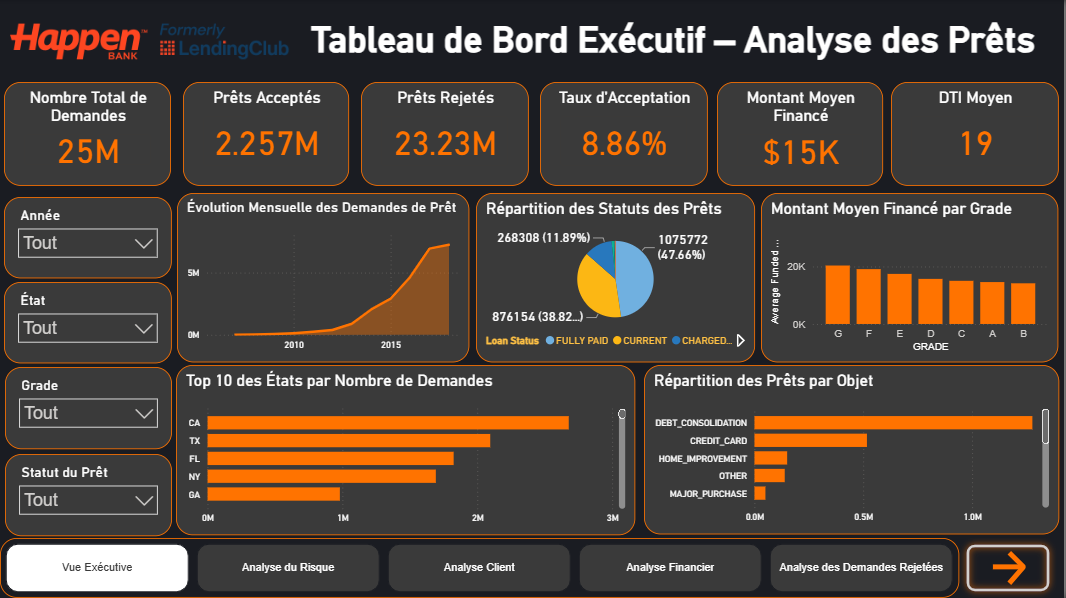

This screenshot's page, from the dashboard's own definition file:
{"tool":"powerbi","page":{"name":"Vue Exécutive","canvas":[1280,720],"ordinal":0},"visuals":[{"type":"image","box":[12,8.4,335.9,83.1],"z":0},{"type":"cardVisual","title":"Nombre Total de Demandes","fields":{"Data":["MESURES.Total Applications"]},"box":[5.1,98.3,201.1,124.5],"z":1000},{"type":"textbox","box":[360,18.1,900.6,71],"z":2000},{"type":"cardVisual","title":"Prêts Acceptés","fields":{"Data":["Count(FACT_ACCEPTED_LOANS.ACCEPTED_LOAN_KEY)"]},"box":[220,98.3,200,125],"z":3000},{"type":"cardVisual","title":"Prêts Rejetés","fields":{"Data":["Count(FACT_REJECTED_LOANS.REJECTED_LOAN_KEY)"]},"box":[435,98.3,201.7,125],"z":4000},{"type":"cardVisual","title":"Taux d''Acceptation","fields":{"Data":["MESURES.Approval Rate %"]},"box":[650,98.3,201.7,125],"z":5000},{"type":"cardVisual","title":"Montant Moyen Financé","fields":{"Data":["MESURES.Average Loan Amount"]},"box":[863.3,98.3,200,125],"z":6000},{"type":"slicer","fields":{"Values":["DIM_DATE.YEAR"]},"box":[5,236.7,201.7,98.3],"z":7000},{"type":"slicer","fields":{"Values":["DIM_STATE.STATE_CODE"]},"box":[5,340,201.7,98.3],"z":8000},{"type":"slicer","fields":{"Values":["DIM_GRADE.GRADE"]},"box":[6,441.9,201.1,98.7],"z":9000},{"type":"pageNavigator","box":[0,648.3,1155.5,72],"z":10000},{"type":"actionButton","box":[1155.5,648.3,115.5,72],"z":11000},{"type":"cardVisual","title":"DTI Moyen","fields":{"Data":["Avg(FACT_ACCEPTED_LOANS.DTI)"]},"box":[1073.3,98.3,201.7,125],"z":12000},{"type":"slicer","fields":{"Values":["DIM_LOAN_STATUS.LOAN_STATUS"]},"box":[6,546.6,201.1,98.7],"z":13000},{"type":"lineChart","title":"Évolution Mensuelle des Demandes de Prêt","fields":{"Category":["DIM_DATE.MONTH","DIM_DATE.YEAR"],"Y":["MESURES.Total Applications"]},"box":[213.3,232.6,352.3,203.7],"z":14000},{"type":"pieChart","title":"Répartition des Statuts des Prêts","fields":{"Category":["DIM_LOAN_STATUS.LOAN_STATUS"],"Y":["MESURES.Accepted Loans"]},"box":[572.6,232.6,335.8,203.7],"z":15000},{"type":"barChart","title":"Top 10 des États par Nombre de Demandes","fields":{"Category":["DIM_STATE.STATE_CODE"],"Y":["MESURES.Total Applications"]},"box":[212,439.1,553.3,205.1],"z":16000},{"type":"clusteredBarChart","title":"Répartition des Prêts par Objet","fields":{"Category":["DIM_PURPOSE.PURPOSE"],"Y":["MESURES.Accepted Loans"]},"box":[774.9,439.1,499.6,203.7],"z":17000},{"type":"clusteredColumnChart","title":"Montant Moyen Financé par Grade","fields":{"Category":["DIM_GRADE.GRADE"],"Y":["MESURES.Average Funded Amount"]},"box":[916.6,232.6,357.8,203.7],"z":18000}]}

Visuals, with their boxes in screenshot pixels (x1, y1, x2, y2), scaled from the page's 1280x720 canvas onto the 1066x598 screenshot:
image: (10,7,290,76)
"Nombre Total de Demandes" cardVisual: (4,82,172,185)
textbox: (300,15,1050,74)
"Prêts Acceptés" cardVisual: (183,82,350,185)
"Prêts Rejetés" cardVisual: (362,82,530,185)
"Taux d''Acceptation" cardVisual: (541,82,709,185)
"Montant Moyen Financé" cardVisual: (719,82,886,185)
slicer - DIM_DATE.YEAR: (4,197,172,278)
slicer - DIM_STATE.STATE_CODE: (4,282,172,364)
slicer - DIM_GRADE.GRADE: (5,367,172,449)
pageNavigator: (0,538,962,597)
actionButton: (962,538,1059,597)
"DTI Moyen" cardVisual: (894,82,1062,185)
slicer - DIM_LOAN_STATUS.LOAN_STATUS: (5,454,172,536)
"Évolution Mensuelle des Demandes de Prêt" lineChart: (178,193,471,362)
"Répartition des Statuts des Prêts" pieChart: (477,193,757,362)
"Top 10 des États par Nombre de Demandes" barChart: (177,365,637,535)
"Répartition des Prêts par Objet" clusteredBarChart: (645,365,1061,534)
"Montant Moyen Financé par Grade" clusteredColumnChart: (763,193,1061,362)
